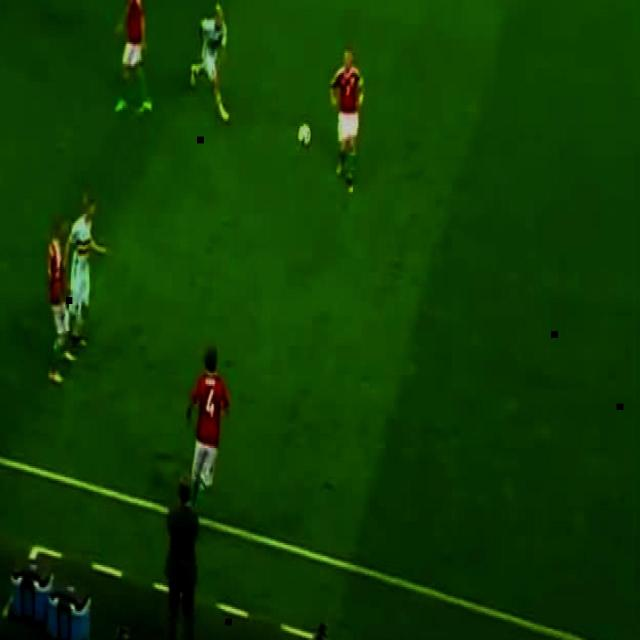ball: (298, 125, 310, 146)
player-white: (183, 348, 229, 520), (64, 192, 106, 348), (330, 47, 365, 196), (189, 2, 230, 122), (48, 220, 76, 384), (112, 0, 152, 114), (0, 0, 10, 16)
